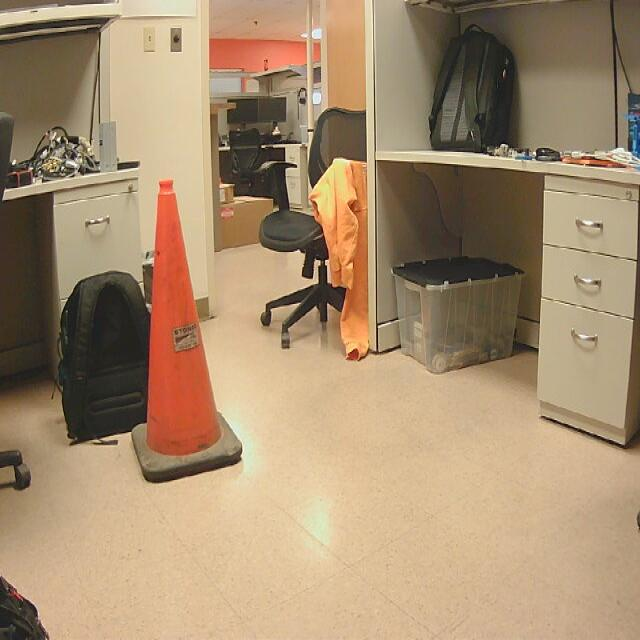traffic cone: (132, 180, 244, 486)
